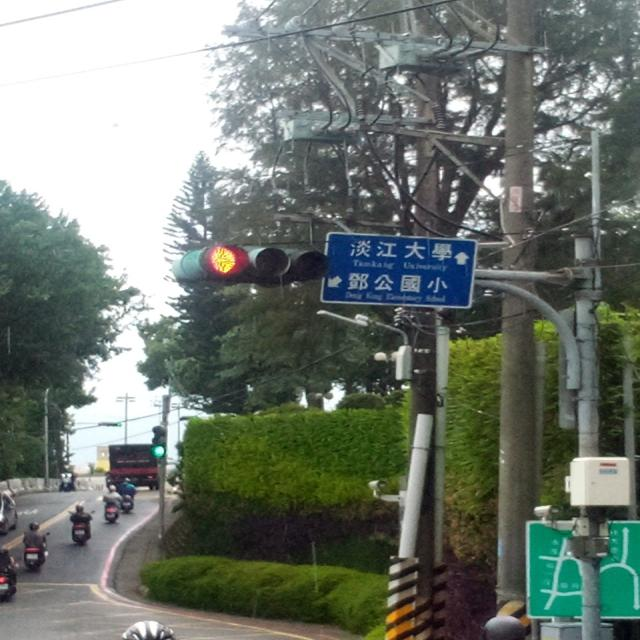red light: (176, 248, 328, 284)
